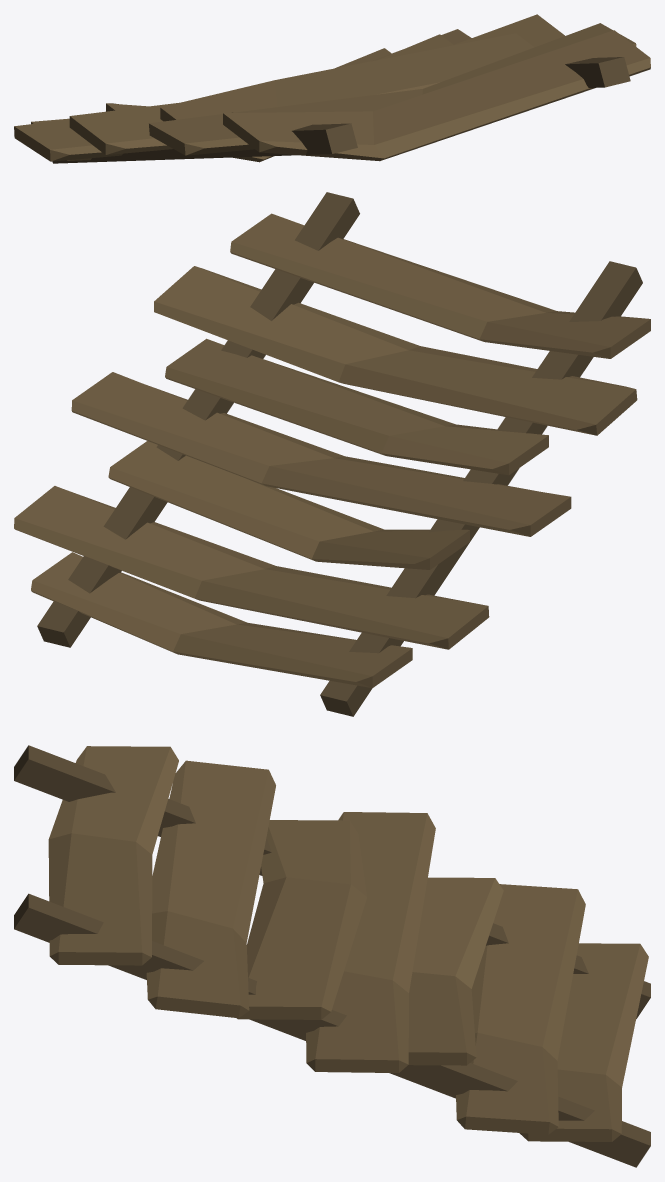
Rendered from SM_Bld_Rickety_Dock_Stairs_01.glb.
The picture shows the model from 3 angles, top to bottom: view 1: azimuth 30°, elevation 25°; view 2: azimuth 150°, elevation 25°; view 3: azimuth 270°, elevation 25°; orthographic projection. The views are drawn at different scales.
Parts seen in each view (by area): view 1: SM_Bld_Rickety_Dock_Stairs_01; view 2: SM_Bld_Rickety_Dock_Stairs_01; view 3: SM_Bld_Rickety_Dock_Stairs_01.
Part boxes in pixels (x1=…): SM_Bld_Rickety_Dock_Stairs_01: x1=14, y1=14, x2=650, y2=163; SM_Bld_Rickety_Dock_Stairs_01: x1=14, y1=192, x2=650, y2=716; SM_Bld_Rickety_Dock_Stairs_01: x1=14, y1=745, x2=650, y2=1167.
Size of the model in its own units: 0.0168 by 0.00821 by 0.0182.
